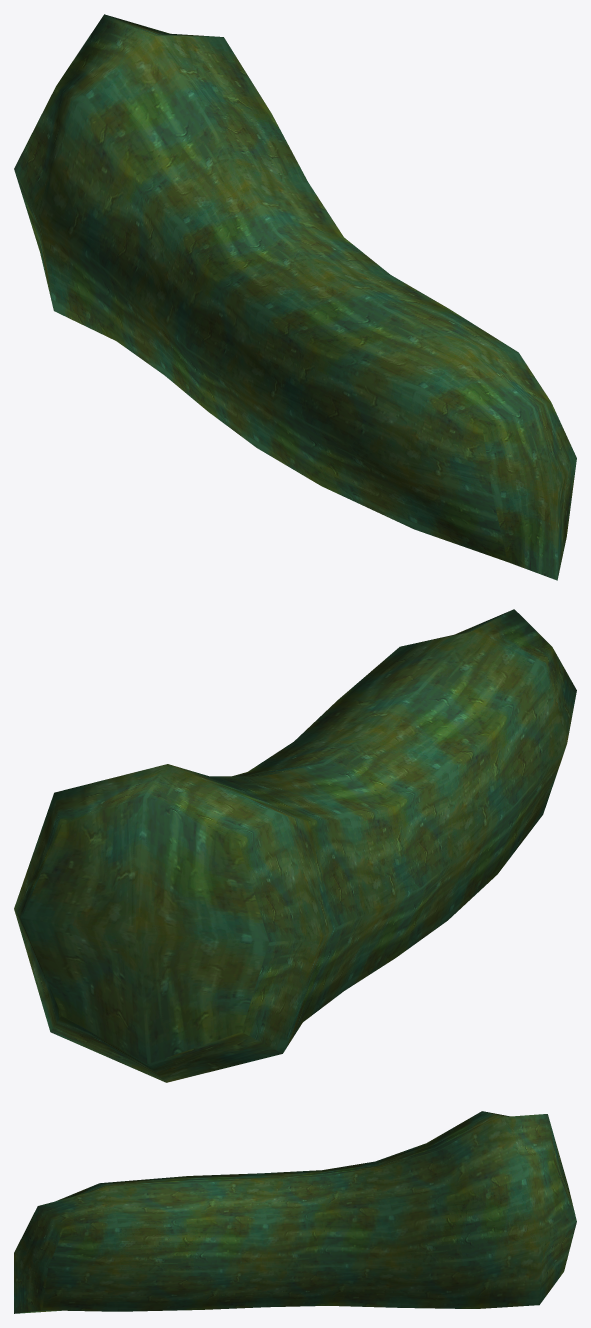
File: MIRKWOOD_MIRK_PLAYSURFACE184.fbx
3 renders of one model, top to bottom at view 1: azimuth 30°, elevation 25°; view 2: azimuth 150°, elevation 25°; view 3: azimuth 270°, elevation 25°, orthographic. The views are drawn at different scales.
Visible parts, largest first — view 1: MIRKWOOD_MIRK_PLAYSURFACE184; view 2: MIRKWOOD_MIRK_PLAYSURFACE184; view 3: MIRKWOOD_MIRK_PLAYSURFACE184.
Boxes of the visible parts, x1,y1,x2,y2 form: MIRKWOOD_MIRK_PLAYSURFACE184: (14, 14, 576, 580); MIRKWOOD_MIRK_PLAYSURFACE184: (14, 609, 576, 1082); MIRKWOOD_MIRK_PLAYSURFACE184: (14, 1111, 576, 1313).
Bounding box in the file's own units: 42369 × 47331 × 130089.
Materials: 1 (1 with a texture image).
